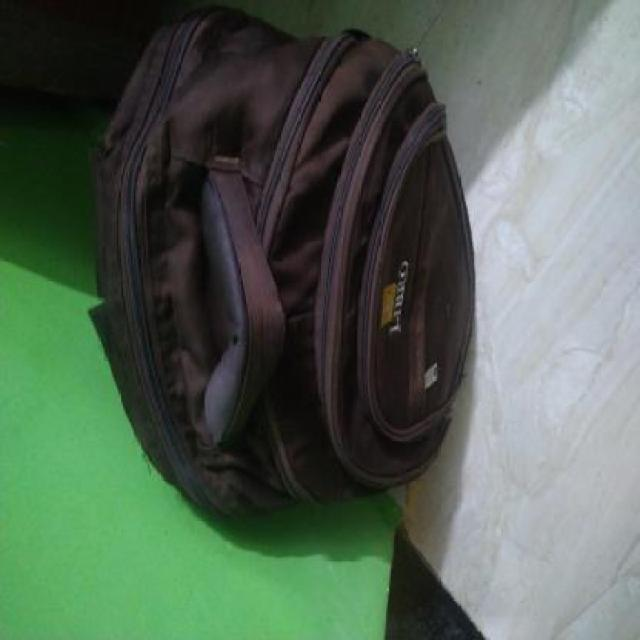backpack: (83, 0, 483, 525)
